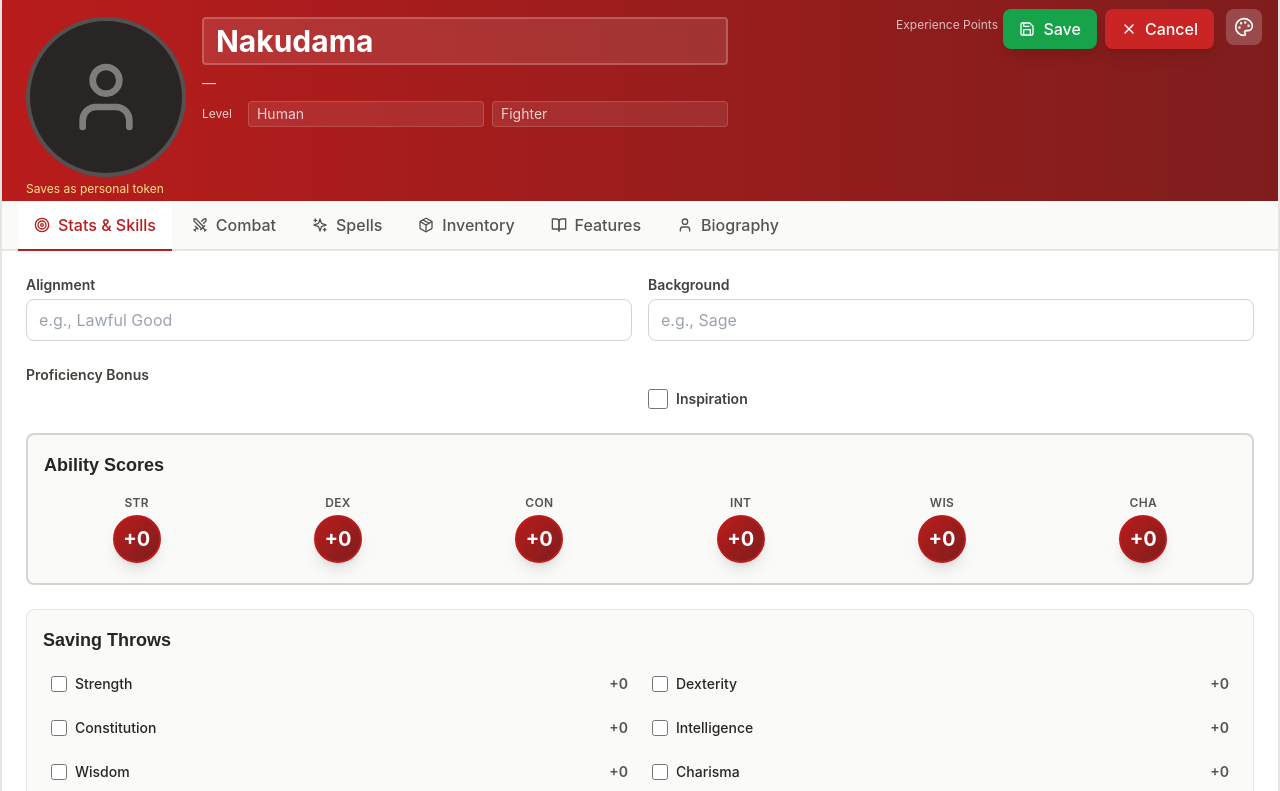
Test case: what the editor starts with › surfaces template features that were stored but never shown
Click the button "Features" at (596, 225), box top-left (535, 201), bottom-right (657, 249)
(page scrolled)
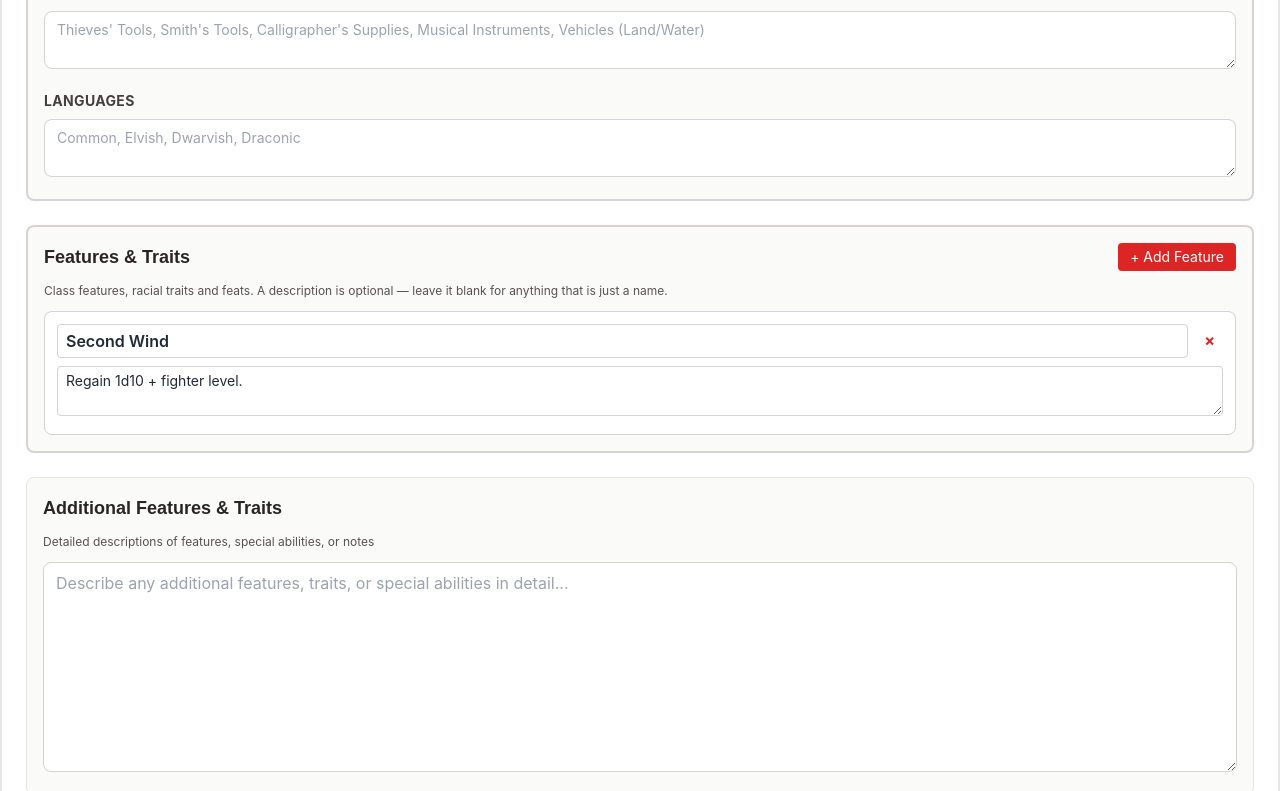
Now the text box named "Feature 1 description" holds "Regain 1d10 + fighter level.", box top-left (57, 366), bottom-right (1223, 416)
